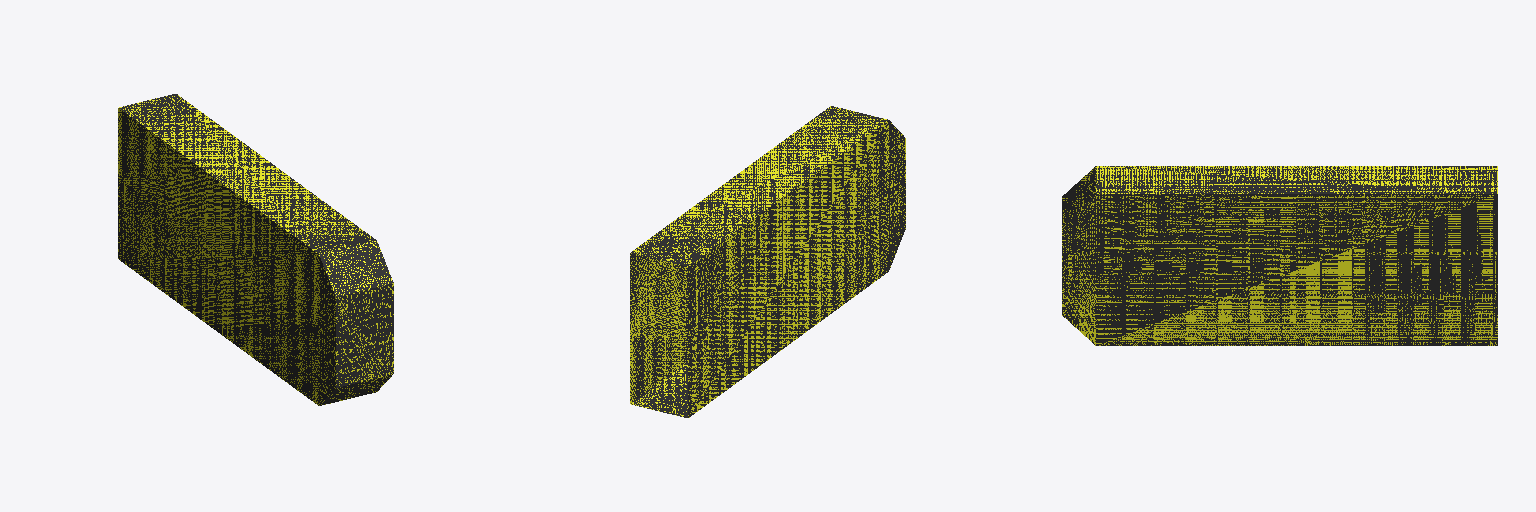
The model's file is original-7.obj.
3 renders of one model, left to right at view 1: azimuth 30°, elevation 25°; view 2: azimuth 150°, elevation 25°; view 3: azimuth 270°, elevation 25°, orthographic.
Visible parts, largest first — view 1: #ID35; view 2: #ID35; view 3: #ID35.
Part boxes in pixels (x1,y1,x2,y2): #ID35: (118,94,393,405); #ID35: (630,106,905,417); #ID35: (1062,166,1497,345).
Size of the model in its own units: 0.0538 by 0.1346 by 0.3499.